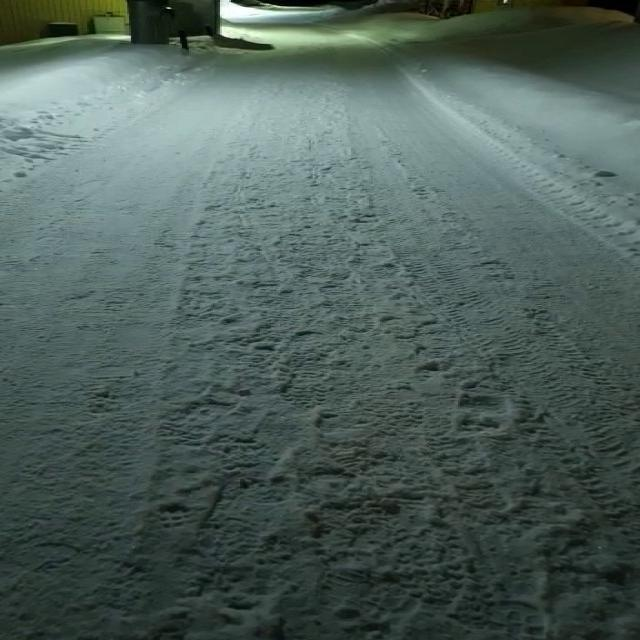path: (0, 5, 640, 640)
